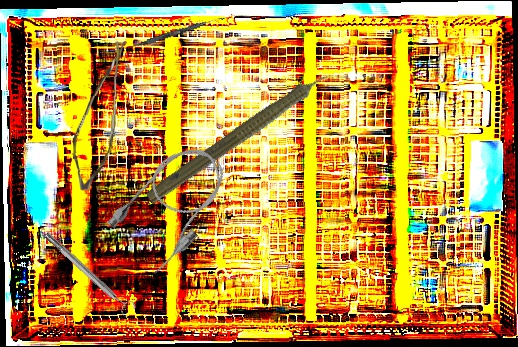Cannula: (101, 132, 243, 280)
Fixation Ring: (40, 226, 138, 320)
Handpiece: (142, 55, 350, 213)
Micro Scissor: (70, 38, 127, 192)
Spatula Surgical: (124, 13, 226, 53)
